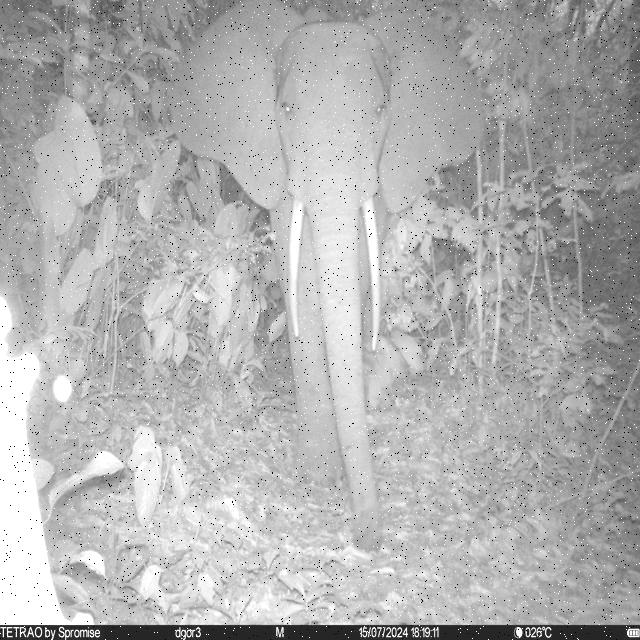ear: (168, 1, 303, 214), (359, 8, 484, 219)
elephant: (170, 1, 484, 555)
tusk: (359, 195, 382, 352), (290, 198, 304, 338)
